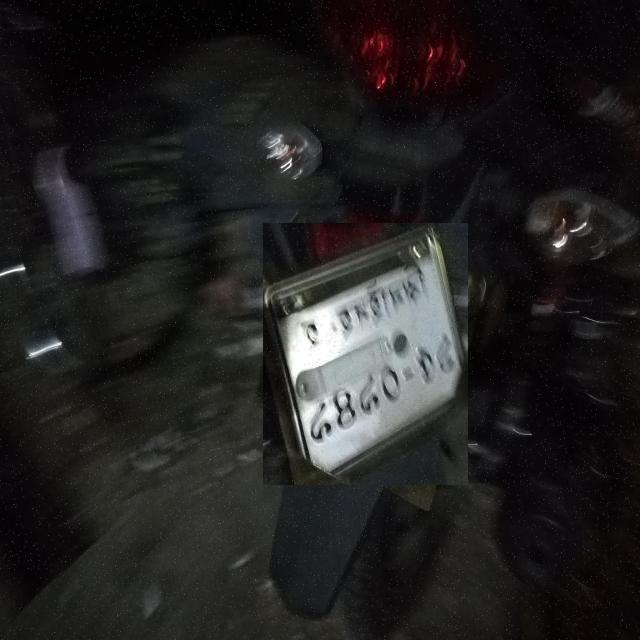numberplate: (263, 223, 468, 485)
